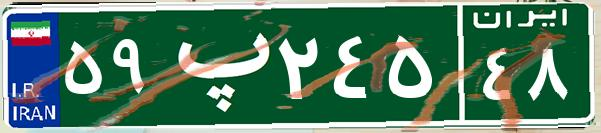2: (273, 28, 330, 110)
4: (330, 28, 385, 110), (475, 38, 525, 113)
5: (385, 28, 445, 110), (57, 26, 110, 107)
8: (525, 38, 570, 115)
9: (110, 28, 158, 105)
پ: (158, 15, 273, 115)
